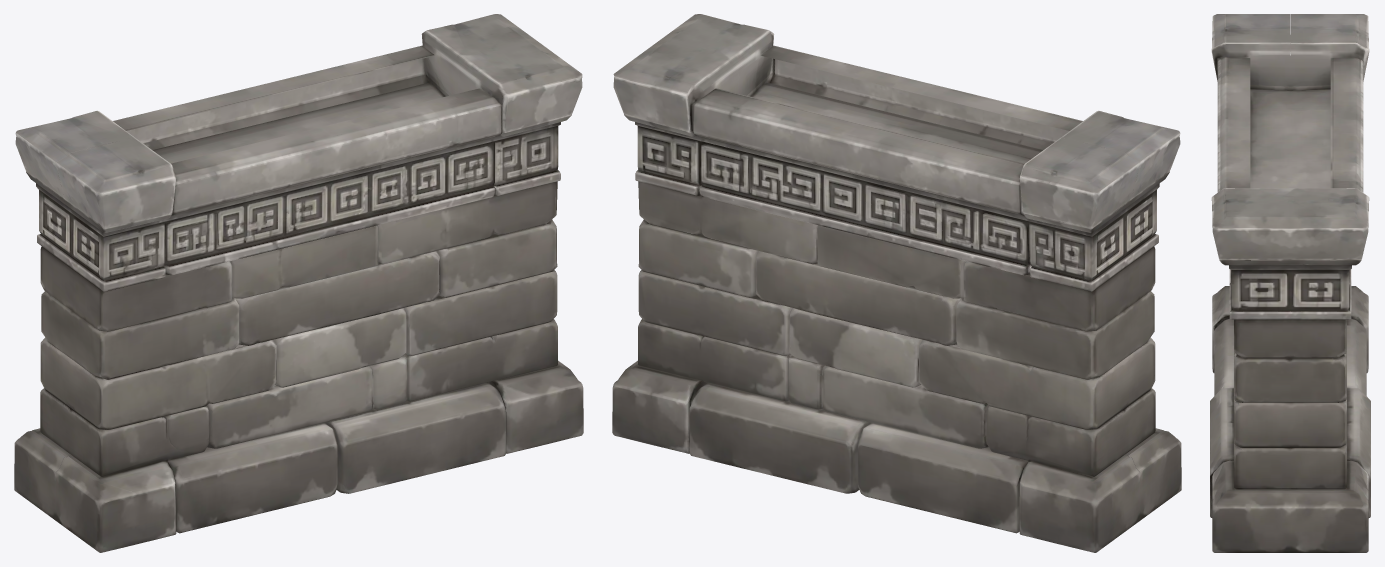
The model's file is SM_Tripo_ZhurongPalaceWall.glb.
The picture shows the model from 3 angles, left to right: view 1: azimuth 30°, elevation 25°; view 2: azimuth 150°, elevation 25°; view 3: azimuth 270°, elevation 25°; orthographic projection. The views are drawn at different scales.
Parts seen in each view (by area): view 1: SM_Tripo_ZhurongPalaceWall_LOD0; view 2: SM_Tripo_ZhurongPalaceWall_LOD0; view 3: SM_Tripo_ZhurongPalaceWall_LOD0.
Part boxes in pixels (bbox=[...]): SM_Tripo_ZhurongPalaceWall_LOD0: bbox=[14, 14, 583, 552]; SM_Tripo_ZhurongPalaceWall_LOD0: bbox=[612, 14, 1181, 552]; SM_Tripo_ZhurongPalaceWall_LOD0: bbox=[1210, 14, 1370, 552].
Size of the model in its own units: 16.65 by 12 by 5.28.
Materials: 1 (1 with a texture image).
